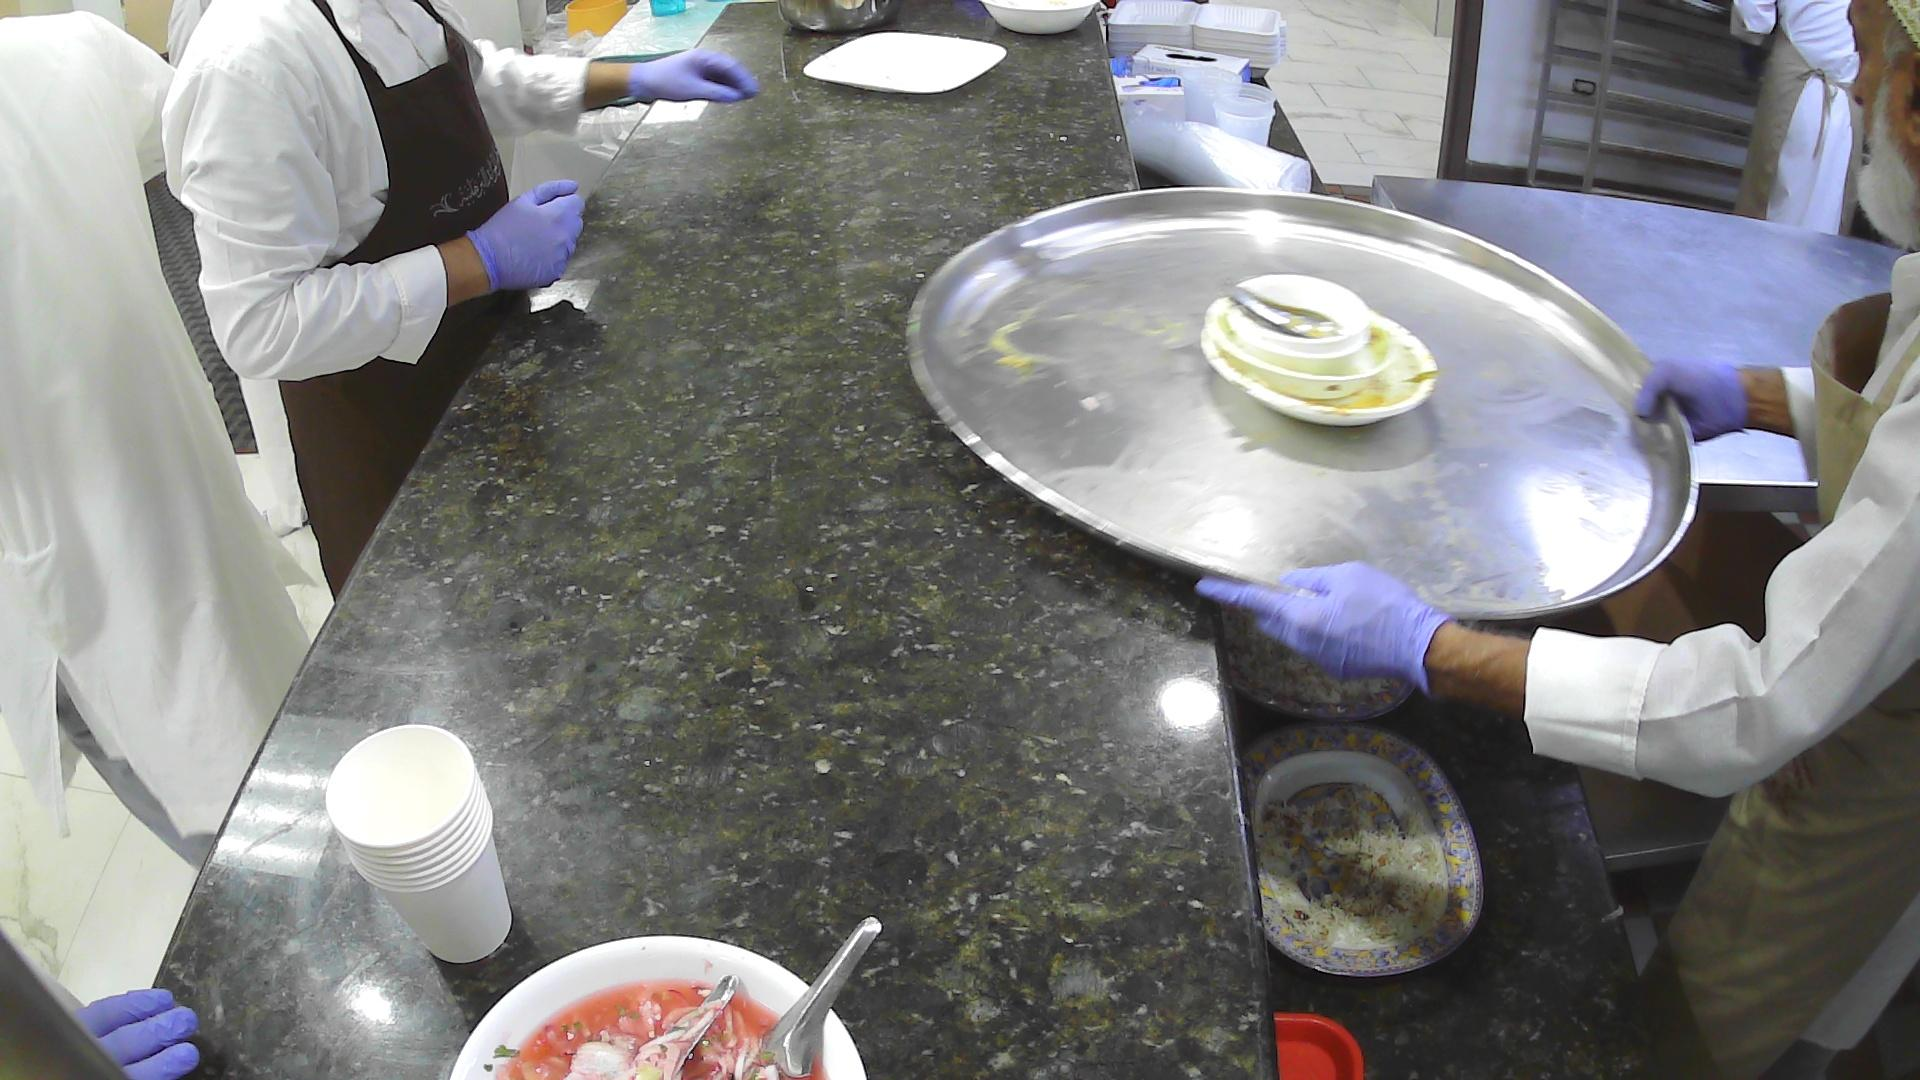thaal: (905, 182, 1702, 624)
